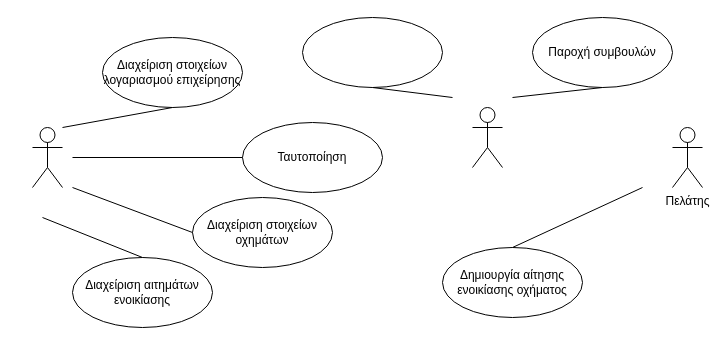
Image size: 727x345. Some labels were removed from this diagram. Each missing label, with the box of its shape:
Εξαγωγή στατιστικών: (302, 16, 442, 88)
Ημερολόγιο Συστήματος: (472, 106, 502, 168)
Υπάλληλος: (32, 126, 62, 188)
